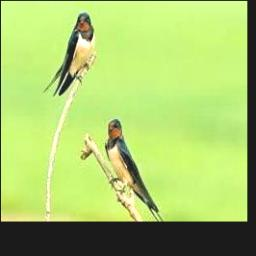Swallow: (105, 118, 164, 222), (44, 12, 96, 97)
